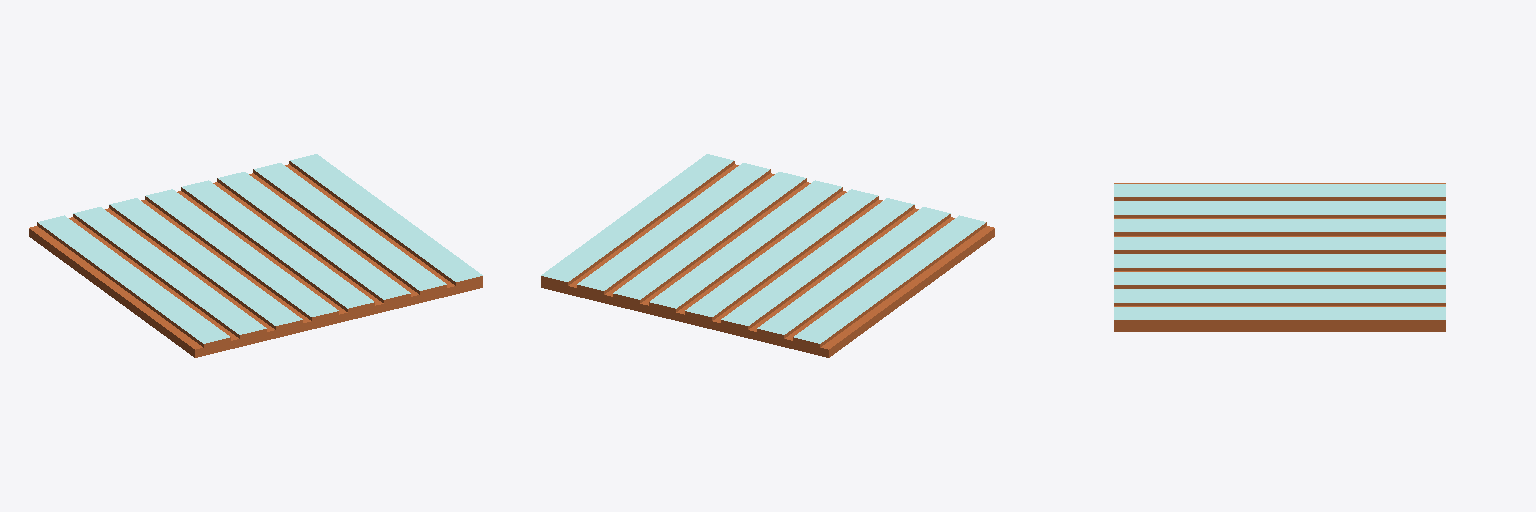
File: cabinRoofFlat.obj
The picture shows the model from 3 angles: view 1: azimuth 30°, elevation 25°; view 2: azimuth 150°, elevation 25°; view 3: azimuth 270°, elevation 25°; orthographic projection.
Parts seen in each view (by area): view 1: cabinRoofFlat; view 2: cabinRoofFlat; view 3: cabinRoofFlat.
Part boxes in pixels (x1,y1,x2,y2): cabinRoofFlat: (29,154,482,357); cabinRoofFlat: (541,154,994,357); cabinRoofFlat: (1114,183,1445,331).
Size of the model in its own units: 1 by 0.04 by 1.